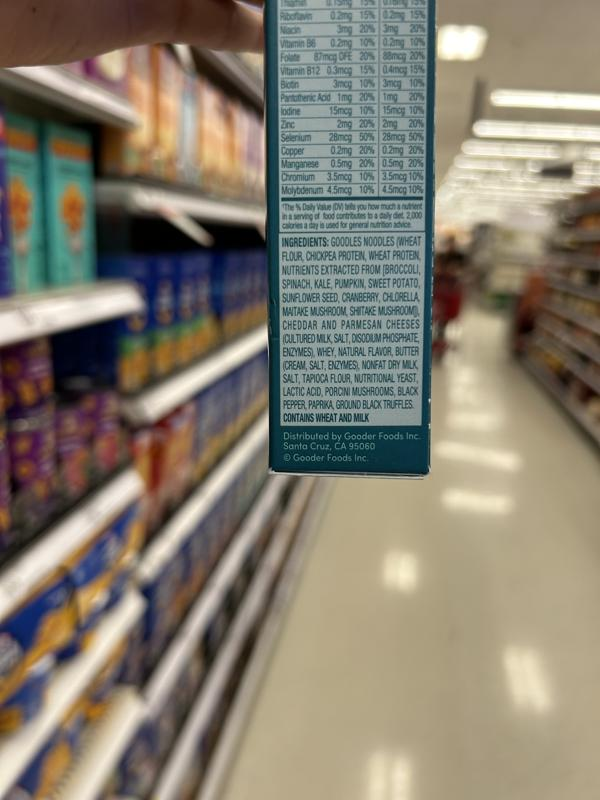ingredients: (278, 233, 424, 413)
